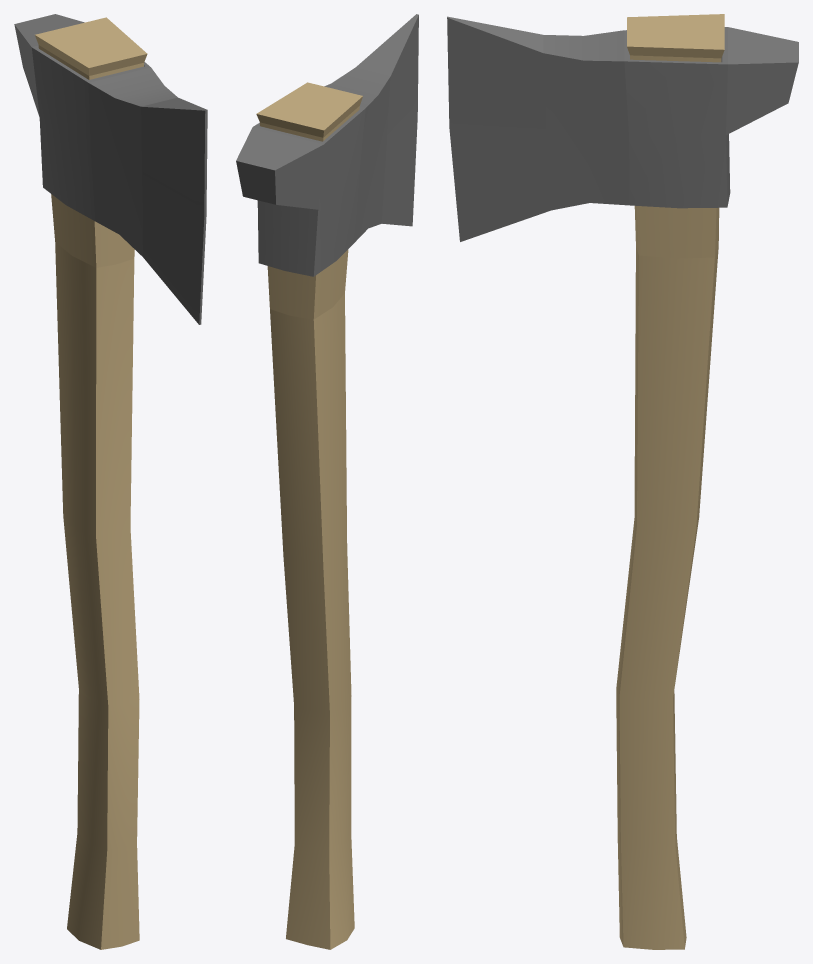
The model's file is atoll_Axe.fbx.
3 views of the same model, side by side, from view 1: azimuth 30°, elevation 25°; view 2: azimuth 150°, elevation 25°; view 3: azimuth 270°, elevation 25° (orthographic). The views are drawn at different scales.
Visible parts, largest first — view 1: Axe_Handle, Axe_Head; view 2: Axe_Handle, Axe_Head; view 3: Axe_Handle, Axe_Head.
Boxes of the visible parts, left/top/right/bottom form: Axe_Handle: left=35, top=17, right=147, bottom=949; Axe_Head: left=14, top=14, right=207, bottom=324; Axe_Handle: left=256, top=82, right=362, bottom=949; Axe_Head: left=236, top=14, right=418, bottom=276; Axe_Handle: left=616, top=14, right=724, bottom=949; Axe_Head: left=447, top=16, right=798, bottom=241.
Size of the model in its own units: 11.83 by 135 by 46.73.
Materials: 1 (1 with a texture image).
